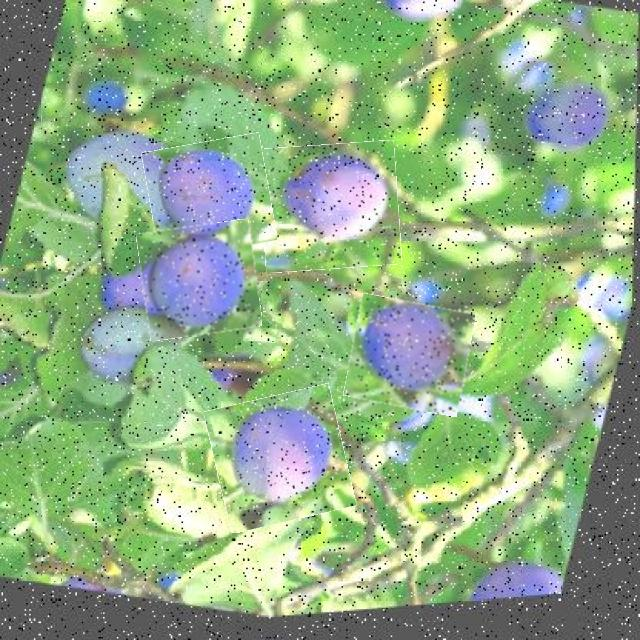plum: (210, 390, 350, 527), (260, 143, 400, 271), (146, 137, 273, 256), (348, 298, 471, 412), (140, 223, 259, 337)
